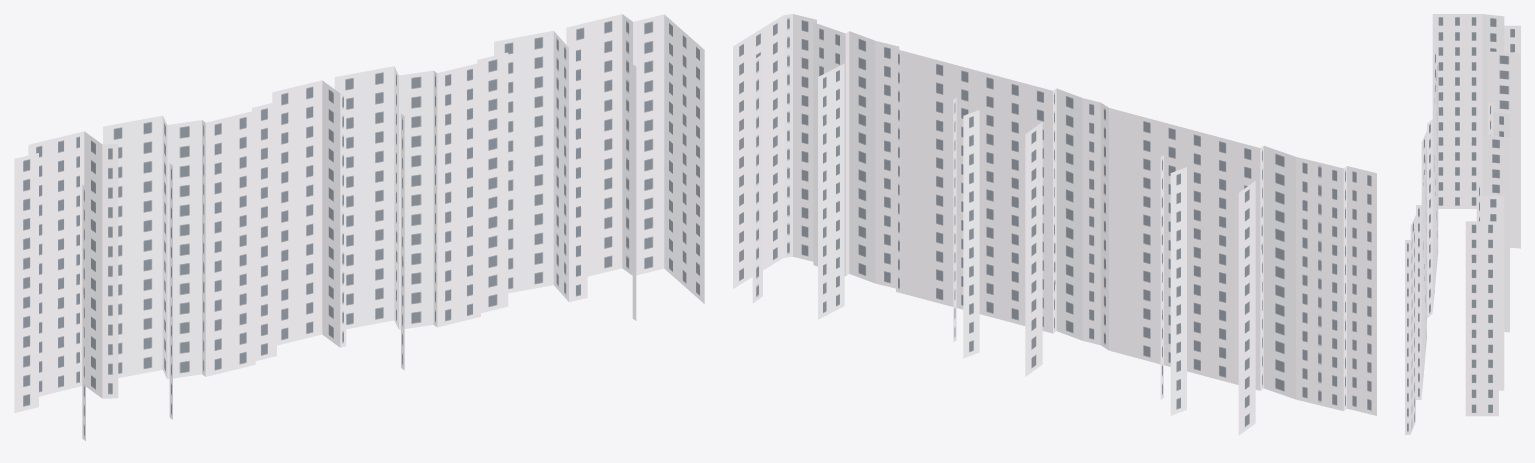
3 views of the same model, side by side, from view 1: azimuth 30°, elevation 25°; view 2: azimuth 150°, elevation 25°; view 3: azimuth 270°, elevation 25° (orthographic). The views are drawn at different scales.
Bounding box in the file's own units: 103 × 39 × 21.
2 materials, 1 textured.
